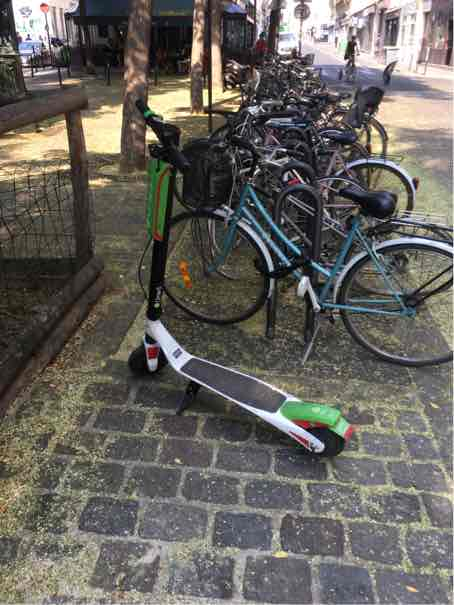scooter: (113, 86, 350, 468)
